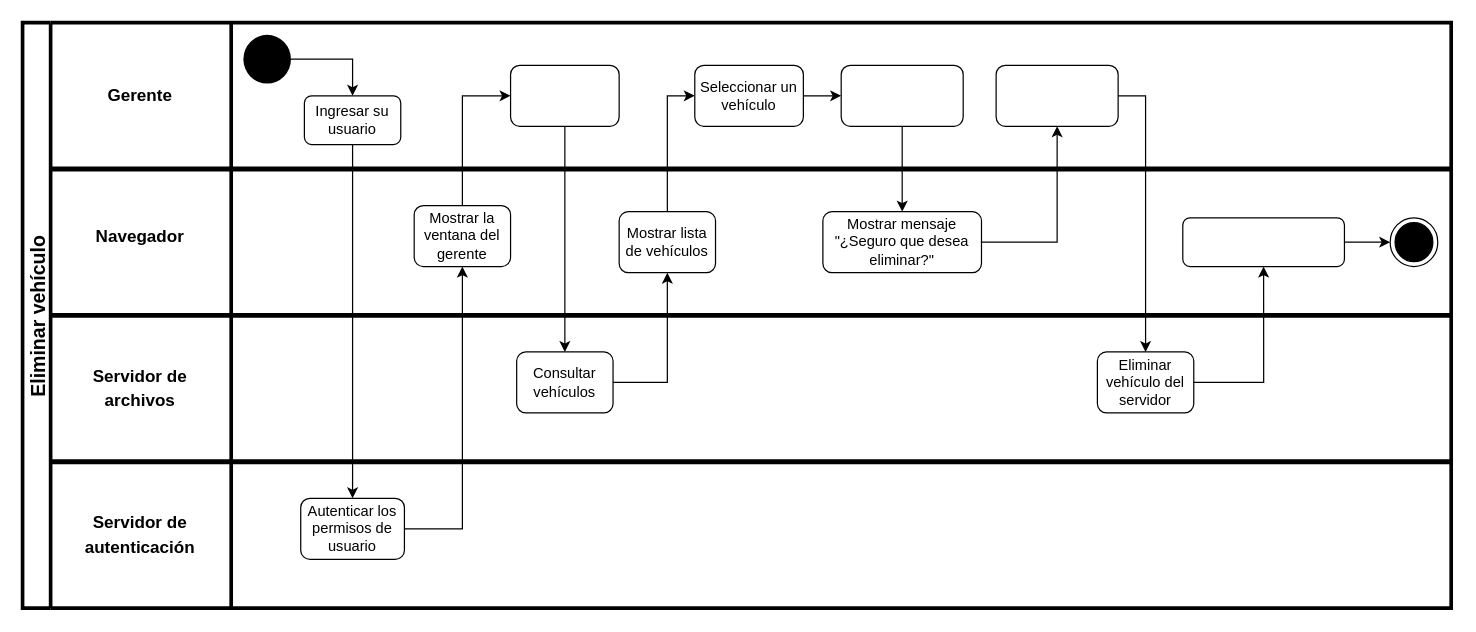
Some shapes in this 1476 by 632 pixel diagram are drawn without their labels. Each missing label, with the centre of its shape:
Mostrar mensaje "Vehículo eliminado": pixel 1263 242
Presionar botón "Eliminar": pixel 901 95
Presionar botón "Si": pixel 1056 95
Seleccionar la ventana de vehículos: pixel 564 95
